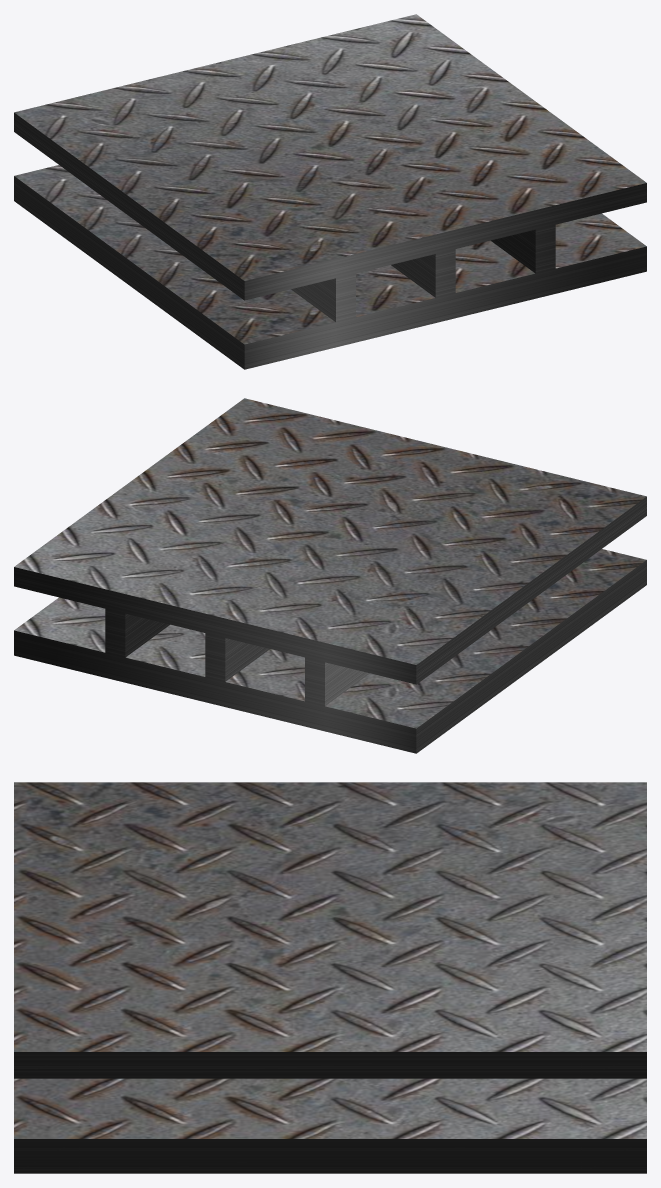
Rendered from Lift.fbx.
3 renders of one model, top to bottom at view 1: azimuth 30°, elevation 25°; view 2: azimuth 150°, elevation 25°; view 3: azimuth 270°, elevation 25°, orthographic. The views are drawn at different scales.
Parts seen in each view (by area): view 1: Lift; view 2: Lift; view 3: Lift.
Part boxes in pixels (bbox=[...]): Lift: bbox=[14, 14, 646, 369]; Lift: bbox=[14, 398, 646, 753]; Lift: bbox=[14, 782, 646, 1173].
Bounding box in the file's own units: 1.01 × 0.2121 × 1.
